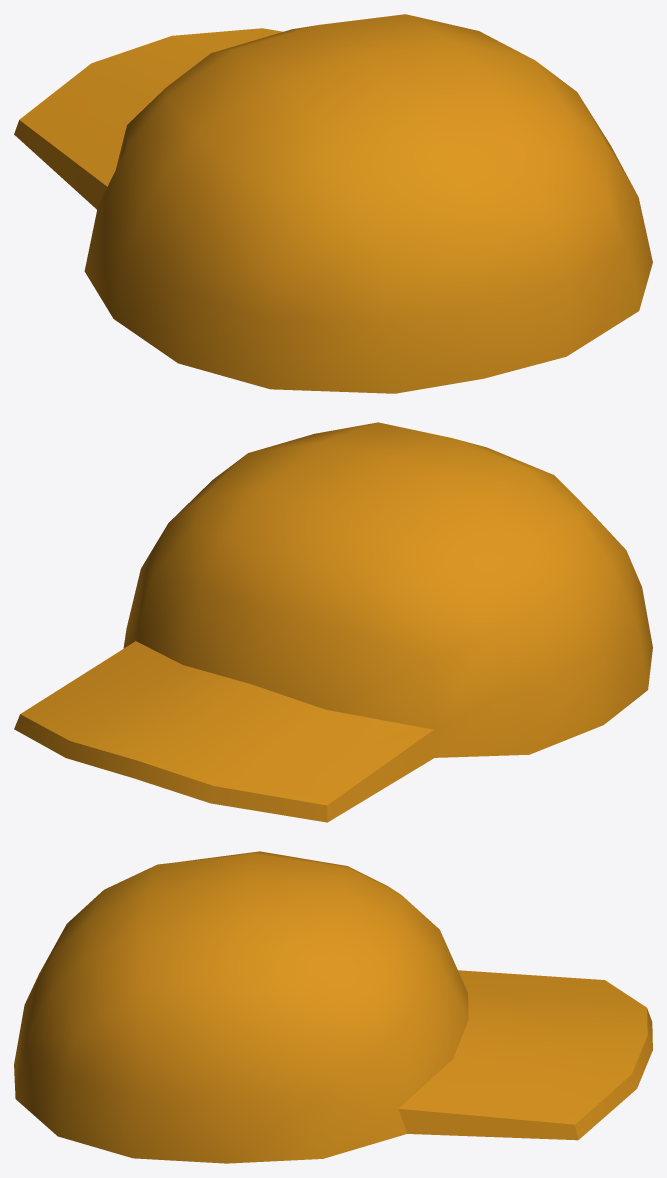
The model's file is Cap.fbx.
The picture shows the model from 3 angles, top to bottom: view 1: azimuth 30°, elevation 25°; view 2: azimuth 150°, elevation 25°; view 3: azimuth 270°, elevation 25°; orthographic projection. The views are drawn at different scales.
Parts seen in each view (by area): view 1: Body.018; view 2: Body.018; view 3: Body.018.
Boxes of the visible parts, box(x1,y1,x2,y2) form: Body.018: box(14, 14, 652, 393); Body.018: box(14, 422, 652, 822); Body.018: box(14, 851, 652, 1163).
Size of the model in its own units: 100 by 43.94 by 133.
